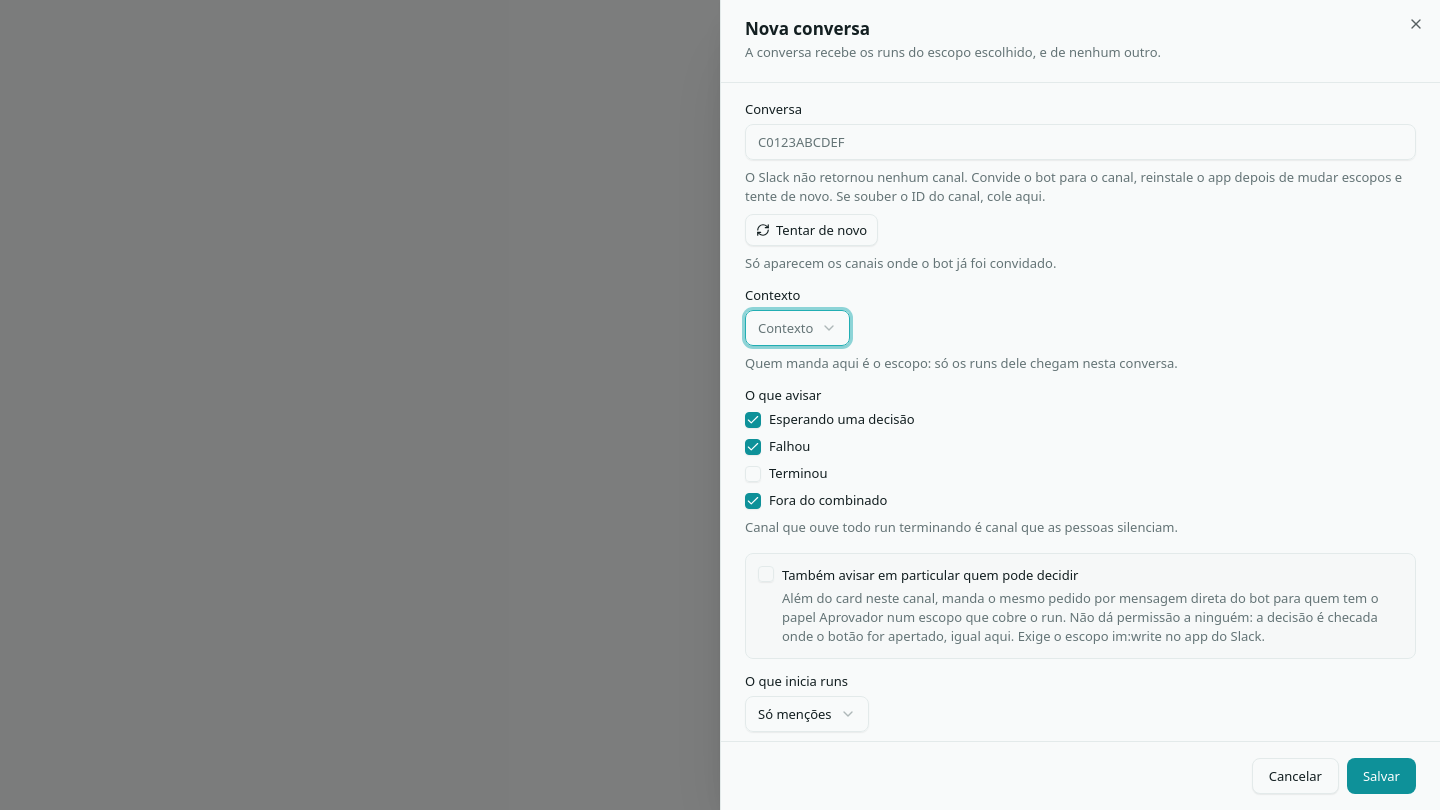
Test: conversation configuration › lets identity administrators choose another runAs principal
Click the dropdown named "O que inicia runs" at (807, 714), box [745,696,869,732]
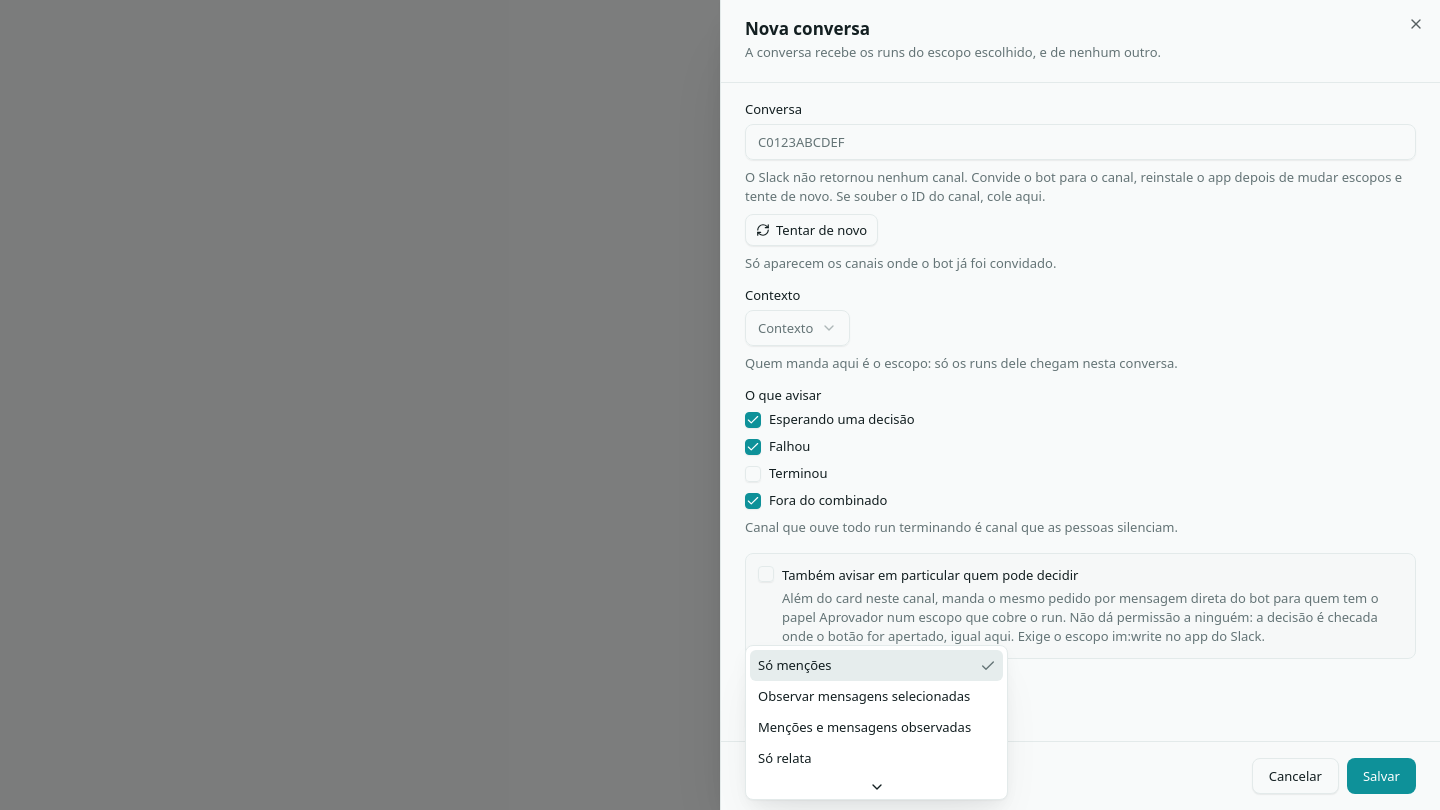
Click the option "Observar mensagens selecionadas" at (864, 696), box [758,687,970,705]
(page scrolled)
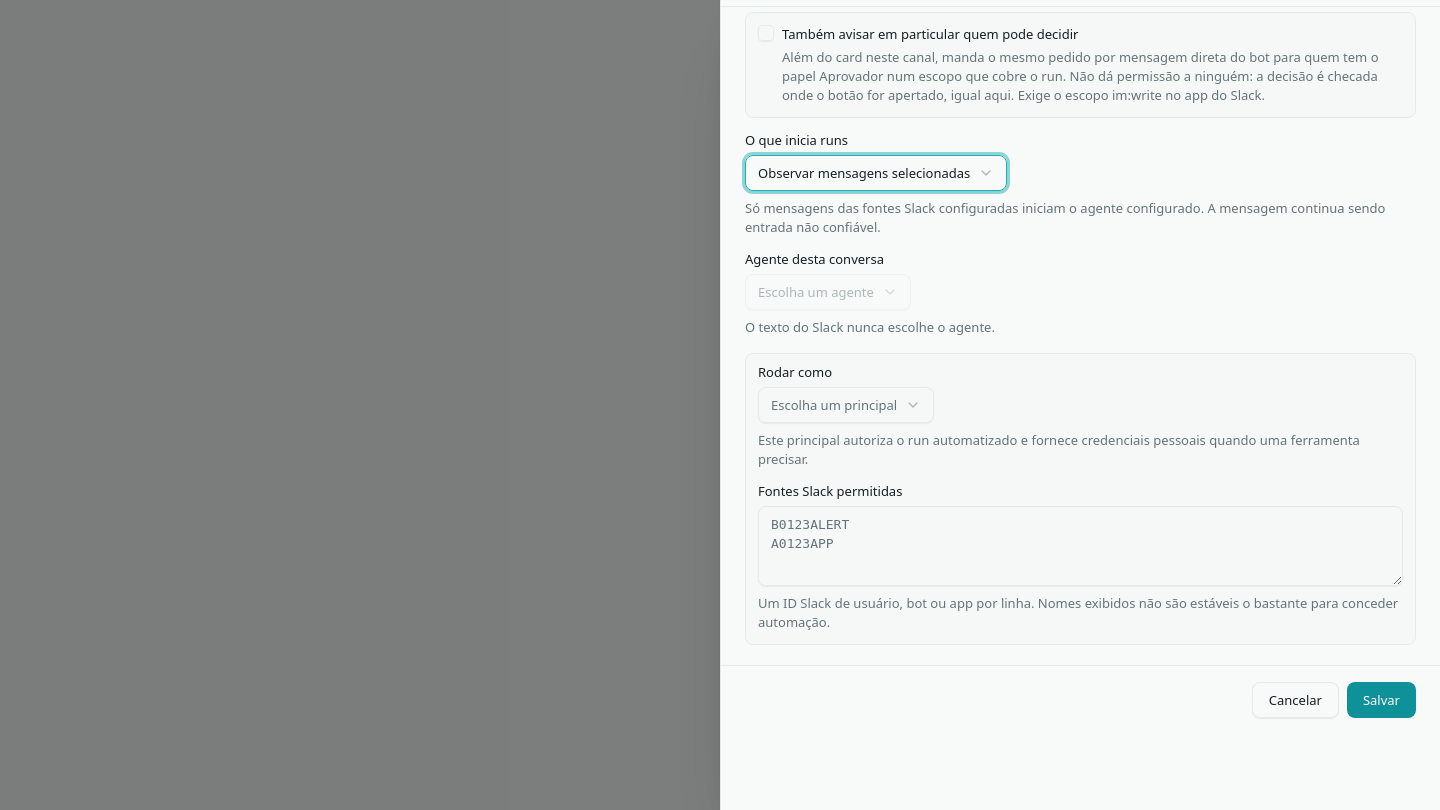
Click the dropdown named "Rodar como" at (846, 405), box [758,387,934,423]
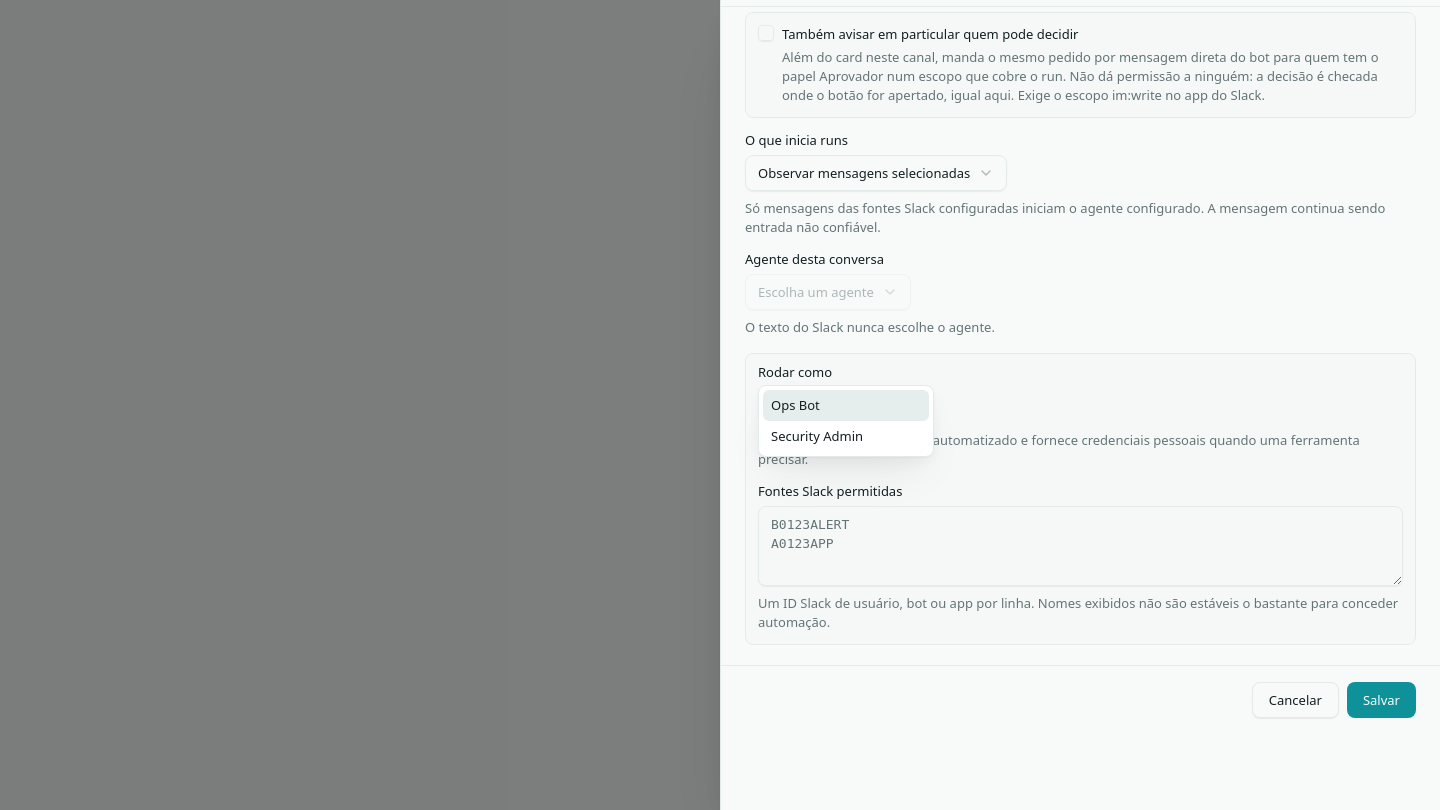
Result: the option "Ops Bot" is shown at [763,390,929,420]
Result: the option "Security Admin" is shown at [771,426,863,444]
